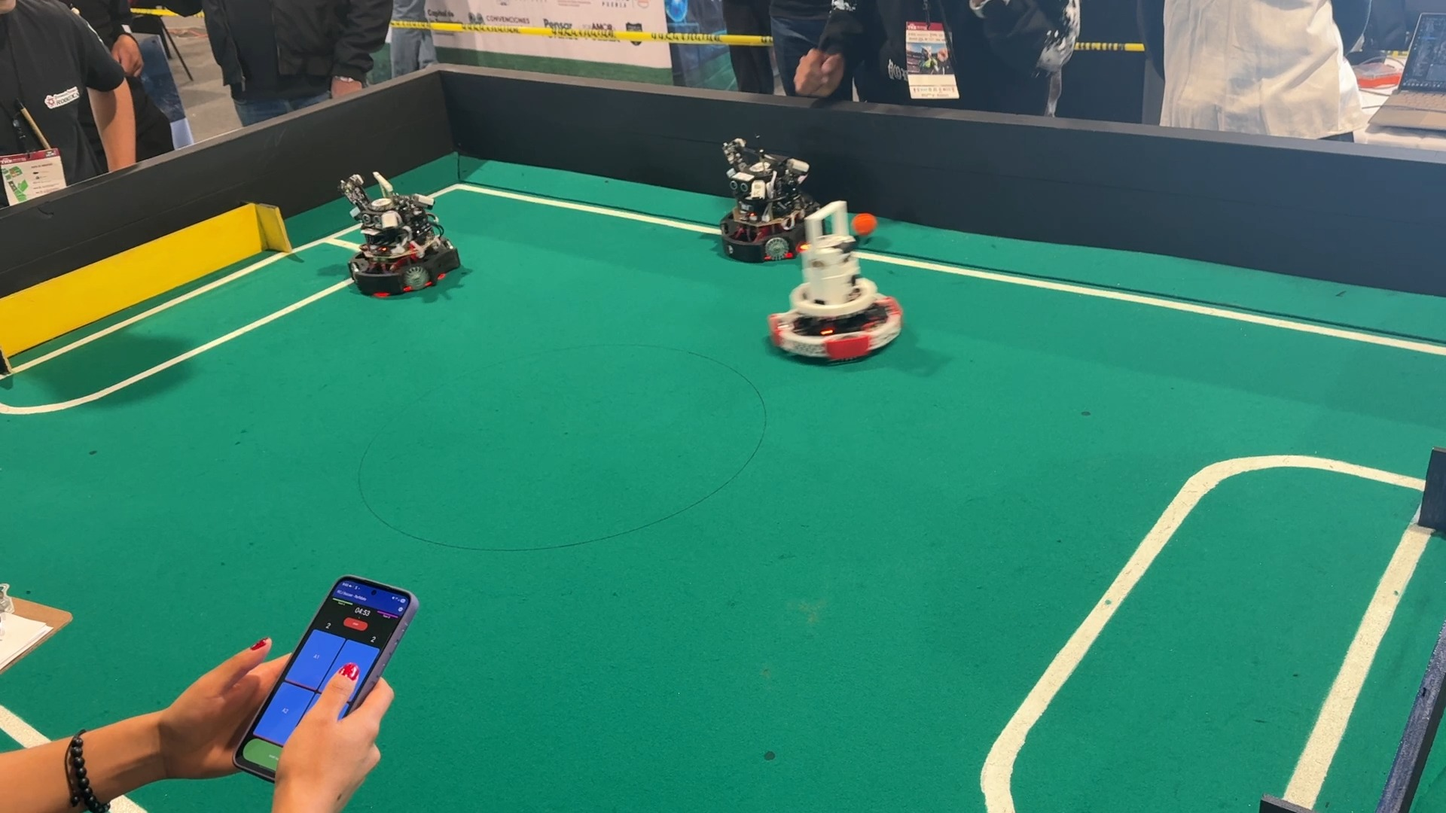Robot: (767, 204, 912, 376), (329, 165, 494, 314), (708, 132, 847, 275)
pelota: (849, 209, 883, 243)
